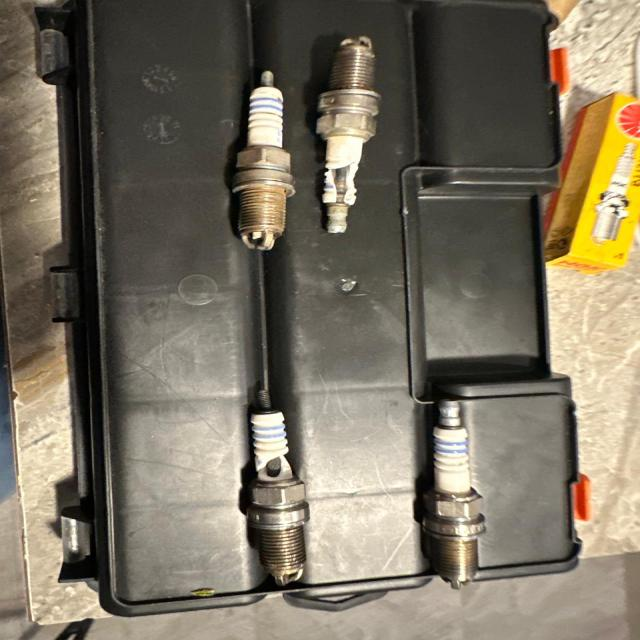damaged_spark-plug: (307, 12, 399, 249), (238, 380, 322, 594)
spark-plug: (414, 381, 505, 598), (227, 64, 303, 262)
